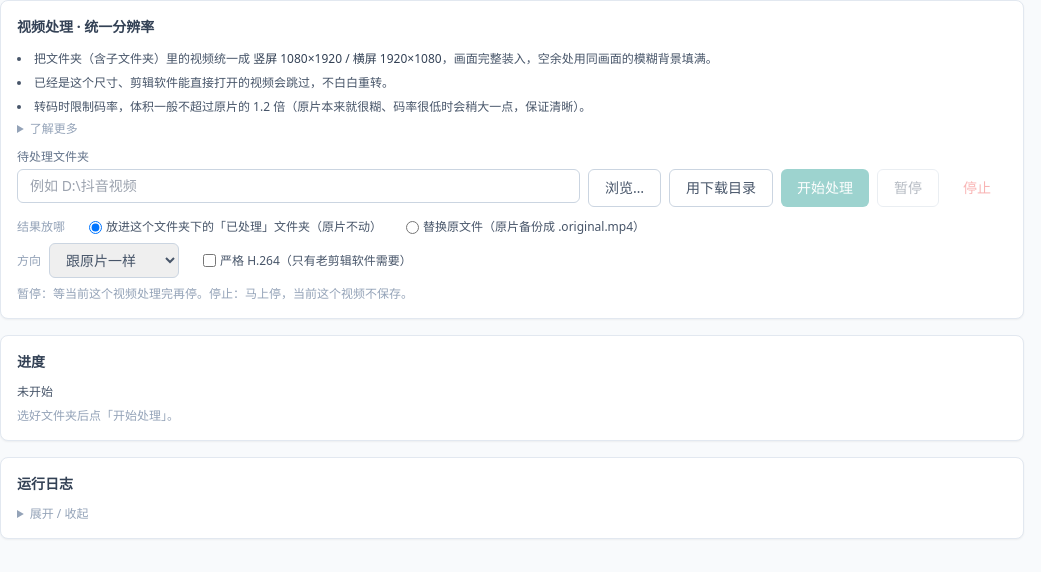
it: VideoProcessPanel › 「浏览…」选文件夹后填入输入框，「开始处理」把该路径和选项交给主进程；失败原因显示在输入框下面
Click the button "浏览…".
click(624, 188)  # box left=588, top=169, right=661, bottom=207
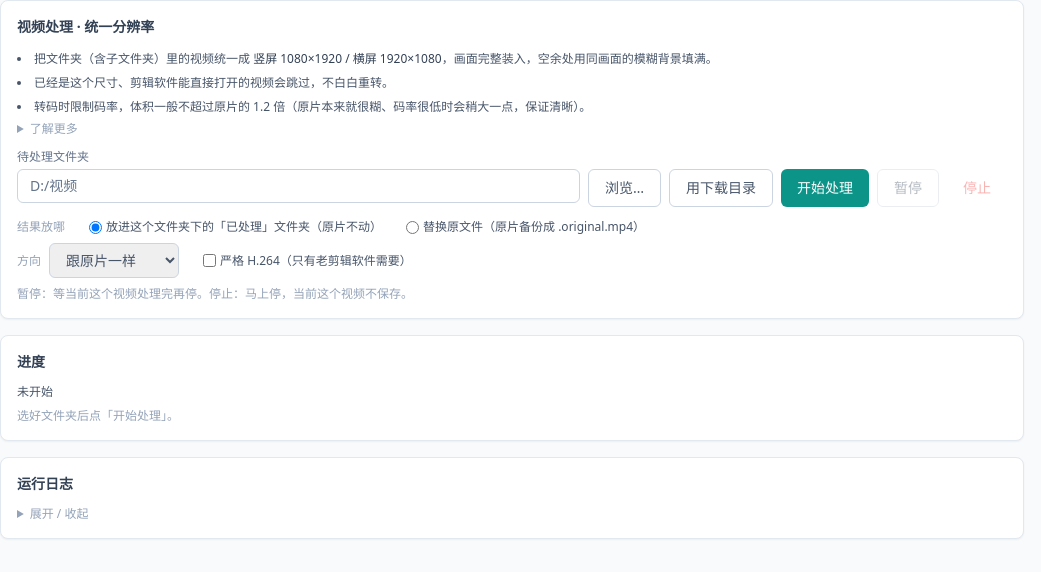
Now the field labelled "待处理文件夹" holds "D:/视频", box left=17, top=169, right=580, bottom=203
Click the button "开始处理".
click(825, 188)  # box left=781, top=169, right=869, bottom=207
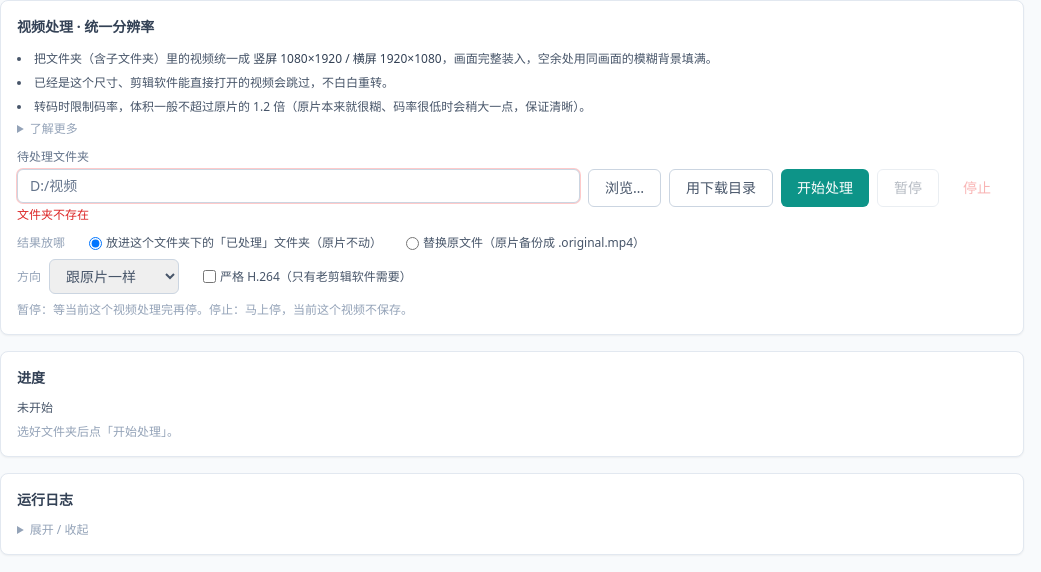
Now the text "文件夹不存在" is shown, box left=17, top=206, right=89, bottom=223
